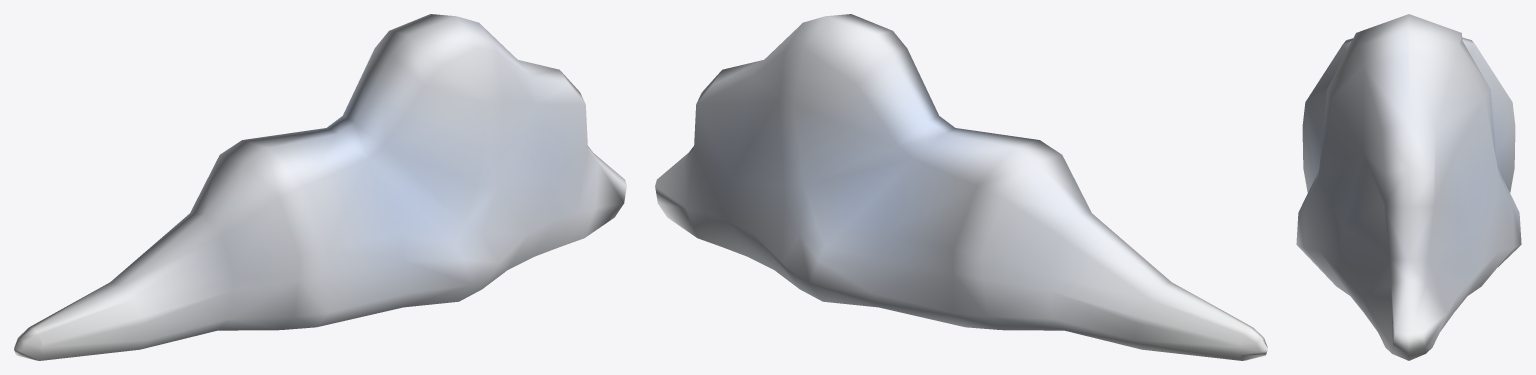
The model's file is ENV3010002.fbx.
3 renders of one model, left to right at view 1: azimuth 30°, elevation 25°; view 2: azimuth 150°, elevation 25°; view 3: azimuth 270°, elevation 25°, orthographic. The views are drawn at different scales.
Parts seen in each view (by area): view 1: smENV3010002; view 2: smENV3010002; view 3: smENV3010002.
Part boxes in pixels (left/top/right/bottom): smENV3010002: left=14, top=14, right=626, bottom=360; smENV3010002: left=655, top=14, right=1267, bottom=360; smENV3010002: left=1296, top=14, right=1521, bottom=360.
Bounding box in the file's own units: 296 × 122 × 89.39.
1 material, 1 textured.
